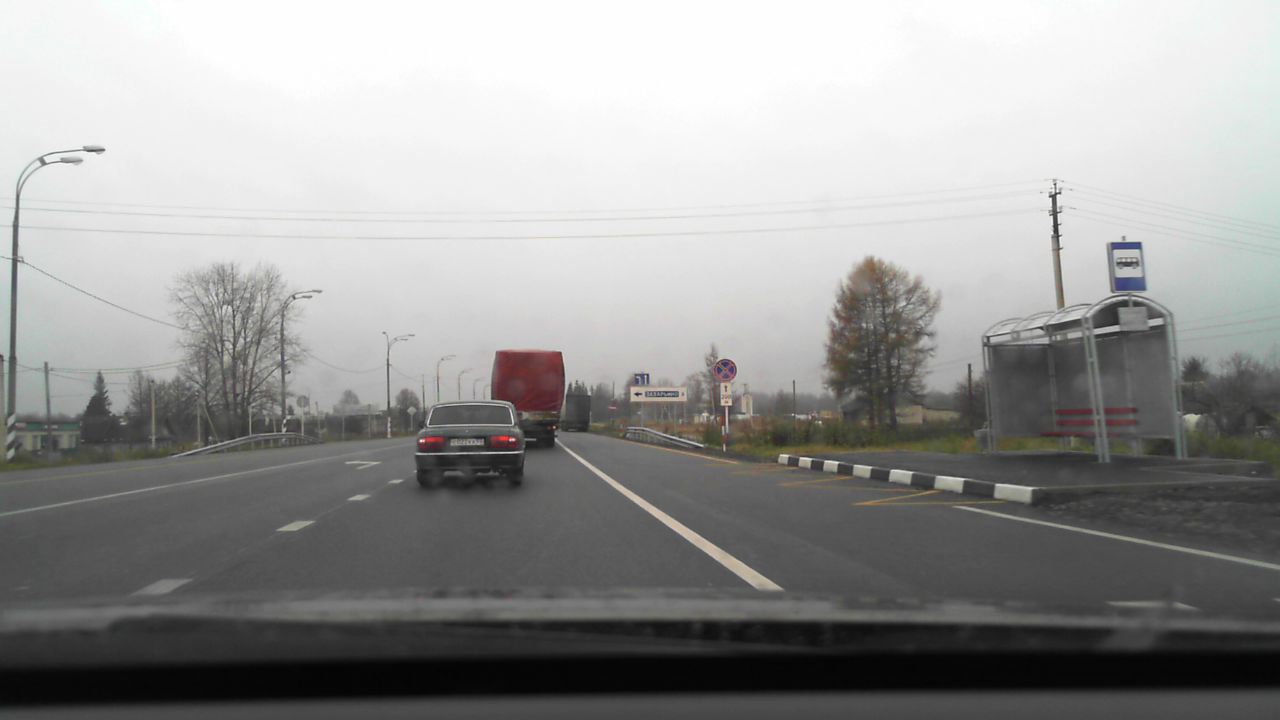No Parking: (713, 358, 737, 381)
